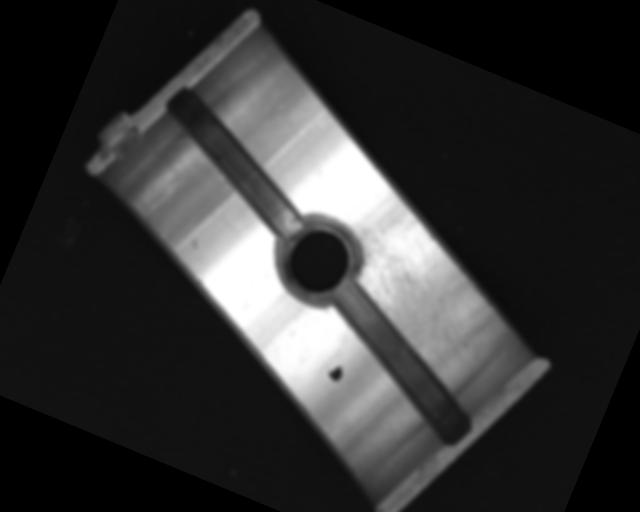blot: (324, 360, 346, 384)
bruise: (188, 235, 203, 250)
gap: (302, 278, 502, 447), (141, 84, 333, 238)
hole: (268, 206, 371, 311)
scratch: (303, 180, 525, 383)
